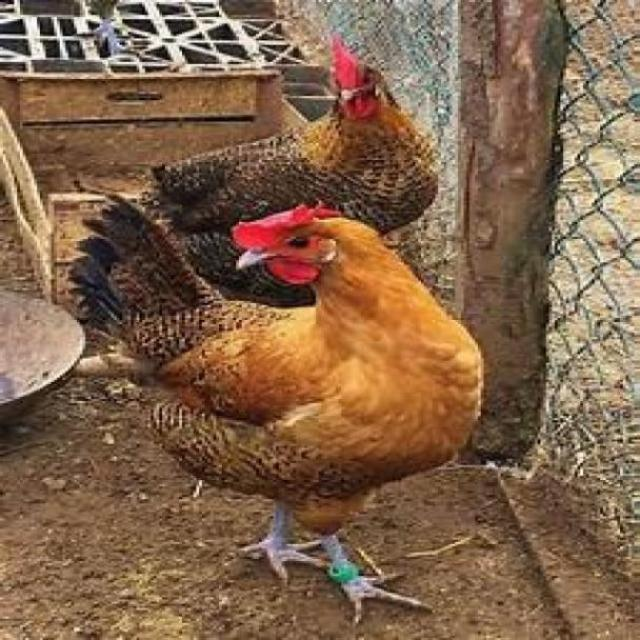Chicken: (66, 194, 484, 625), (145, 32, 438, 297)
